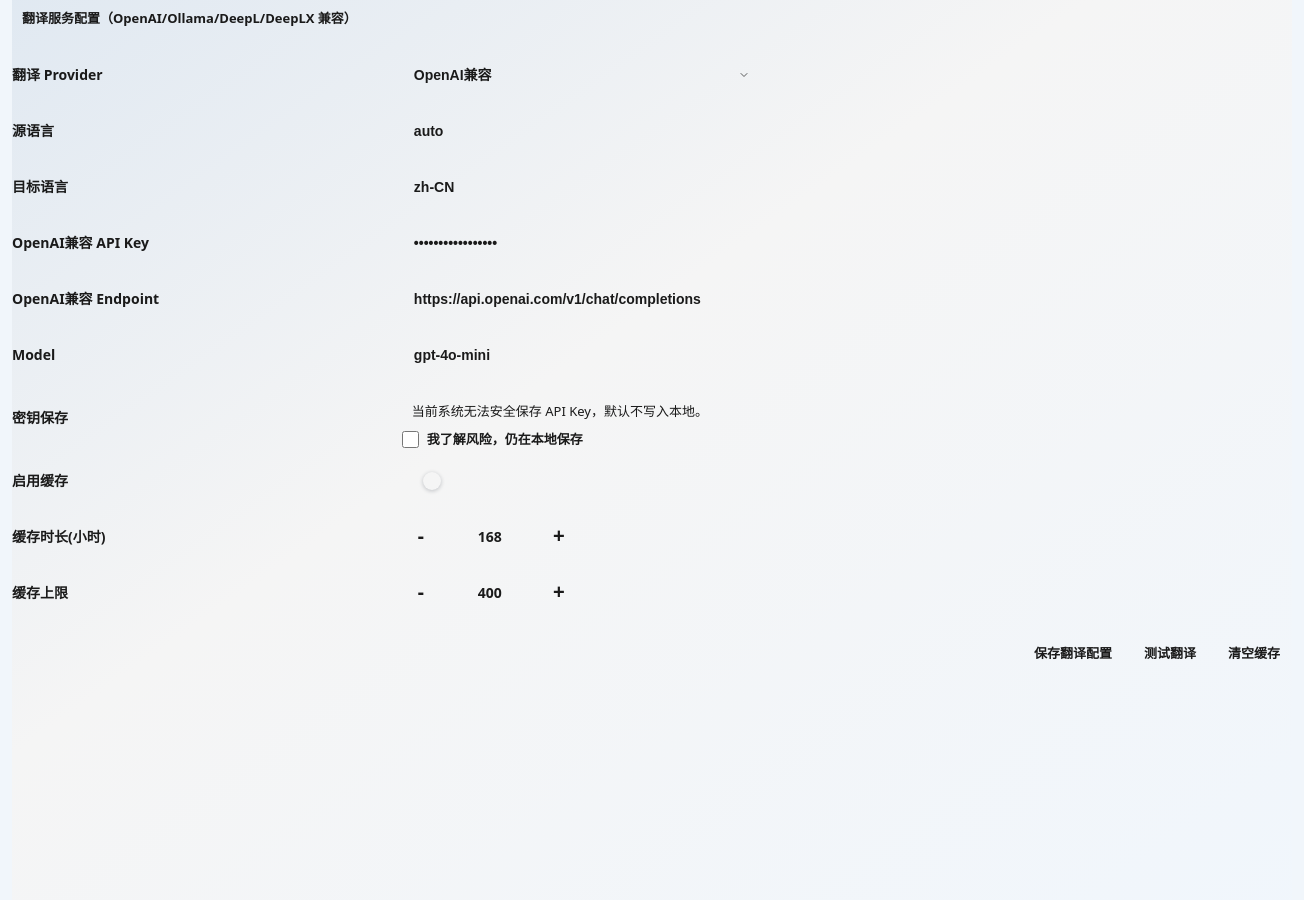
Test case: TranslateSettingsTab › 切换 provider 后显示对应 Provider 字段
This screenshot has width=1304, height=900.
Expected: the password field showing "stored-openai-key" is shown, top-left (402, 224), bottom-right (762, 261)
Select "Ollama兼容" in the dropdown labelled "翻译 Provider": (582, 75) top-left (402, 56), bottom-right (762, 93)
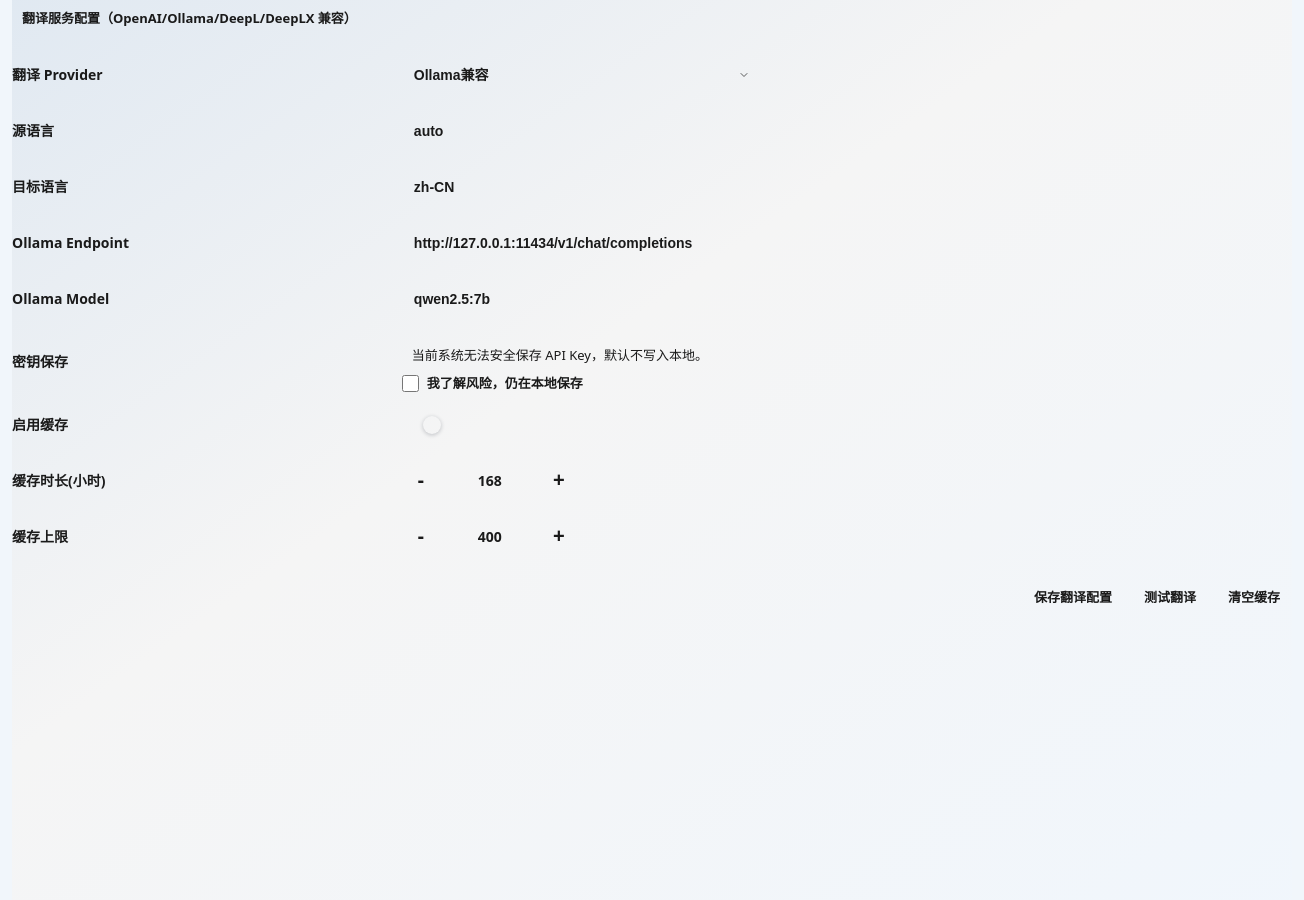
Result: the text "Ollama Endpoint" is shown at top-left (12, 233), bottom-right (129, 252)
Result: the text "Ollama Model" is shown at top-left (12, 289), bottom-right (109, 308)
Result: the text "OpenAI兼容 API Key" is gone
